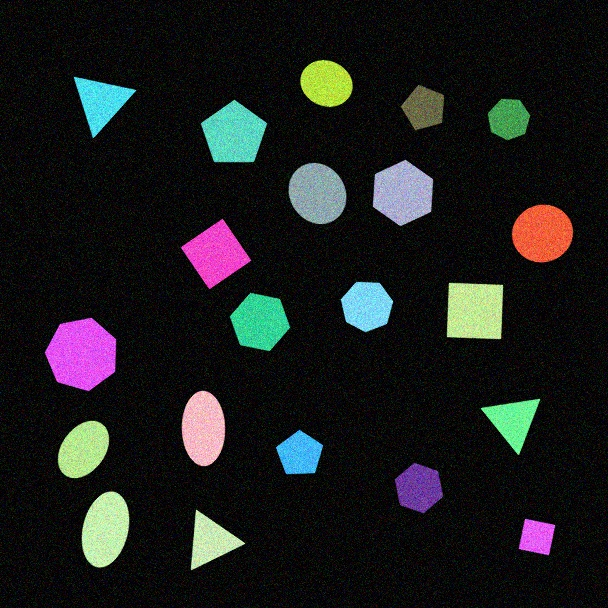Circulo: (511, 204, 574, 263), (288, 162, 347, 225), (300, 59, 353, 108)
Elipse: (81, 491, 130, 568), (181, 390, 226, 467), (57, 420, 110, 479)
Heptagono: (44, 317, 117, 392), (340, 281, 394, 333), (487, 98, 531, 141)
Hexagono: (372, 159, 434, 227), (229, 292, 291, 352), (394, 462, 444, 514)
Pentagono: (200, 99, 268, 163), (275, 429, 324, 475), (400, 84, 445, 131)
Quadrado: (180, 218, 252, 290), (446, 282, 504, 340), (518, 518, 556, 556)
Triangulo: (73, 76, 137, 139), (480, 398, 541, 456), (190, 509, 246, 571)
